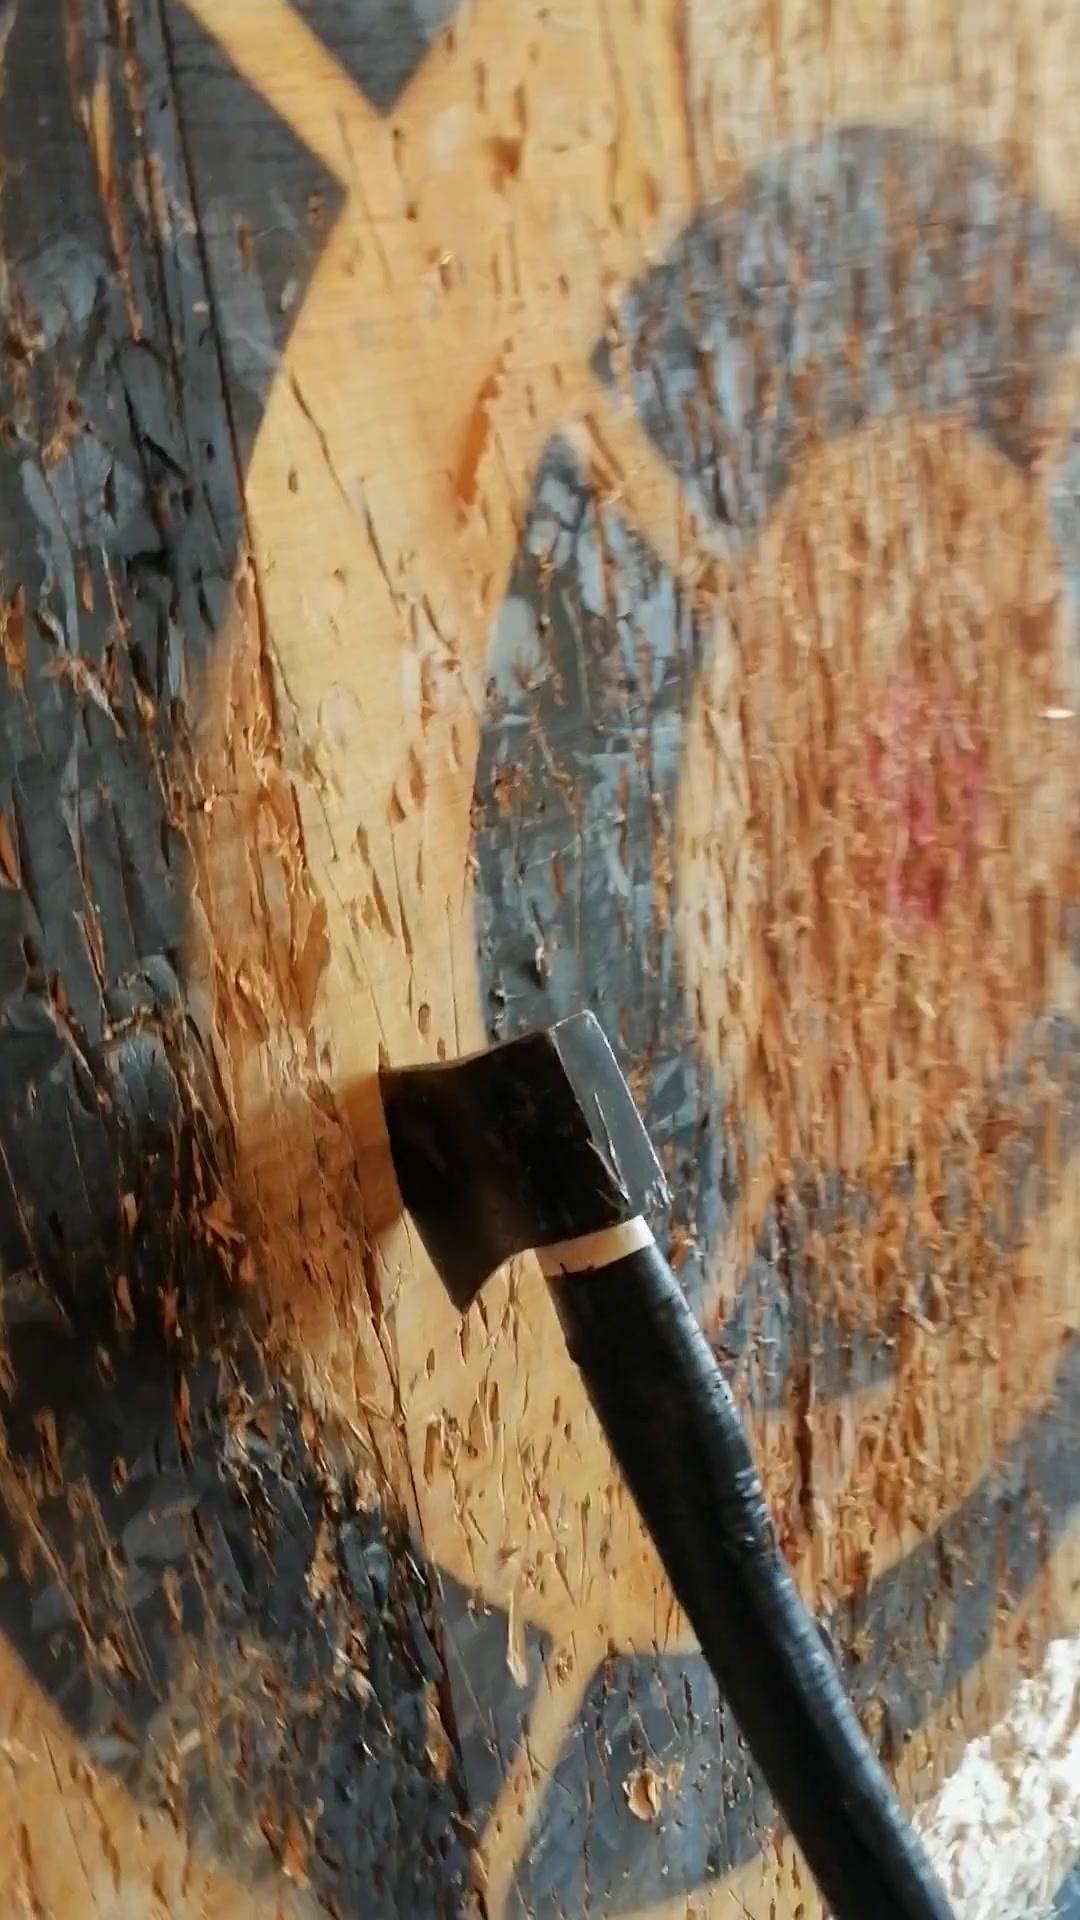Hand Axe: (378, 1010, 667, 1302)
